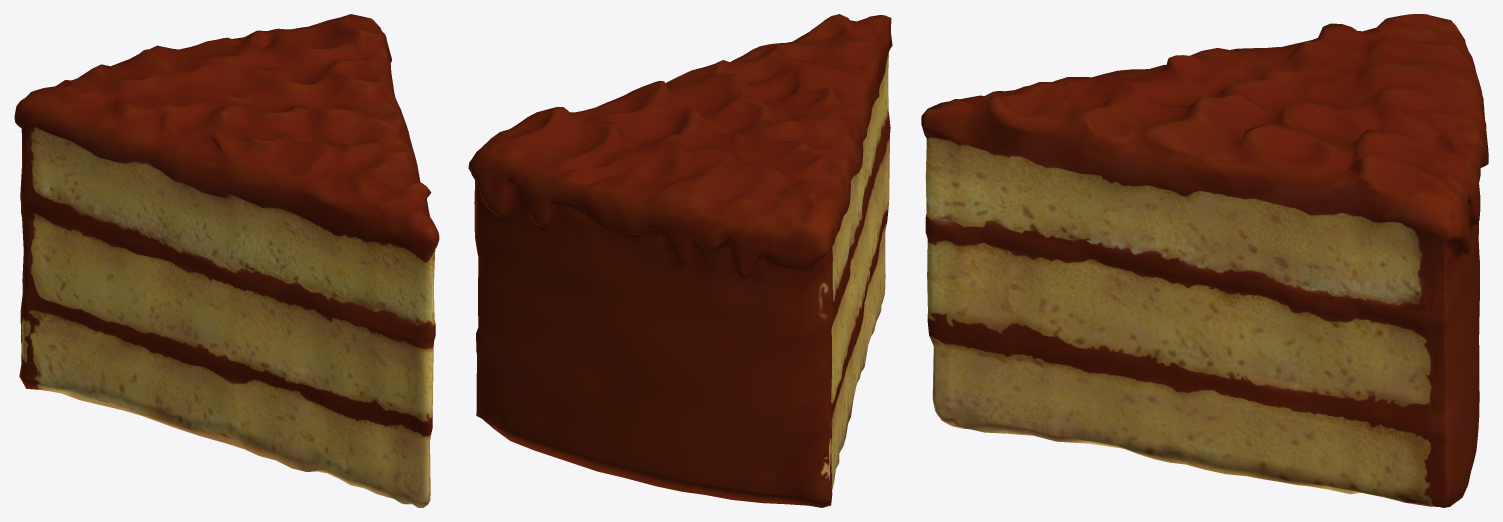
Rendered from energyCake.fbx.
The picture shows the model from 3 angles, left to right: view 1: azimuth 30°, elevation 25°; view 2: azimuth 150°, elevation 25°; view 3: azimuth 270°, elevation 25°; orthographic projection. The views are drawn at different scales.
Visible parts, largest first — view 1: model_0; view 2: model_0; view 3: model_0.
Part boxes in pixels (box(x1,y1,x2,y2)): model_0: box(14, 14, 439, 507); model_0: box(468, 14, 892, 507); model_0: box(921, 14, 1488, 507).
Size of the model in its own units: 523 by 429 by 642.
Materials: 1 (1 with a texture image).
